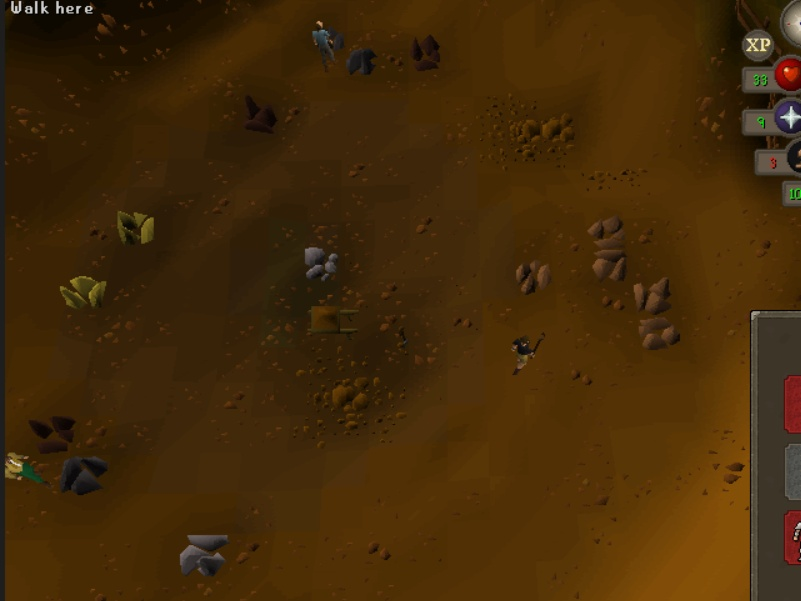copper: (512, 252, 561, 304), (628, 275, 682, 316), (632, 315, 686, 356), (584, 213, 633, 248), (588, 247, 637, 282)
gold: (52, 266, 121, 309), (111, 207, 163, 249)
iron: (22, 400, 81, 457), (407, 30, 450, 74), (238, 91, 281, 135)
tin: (169, 521, 236, 585)
